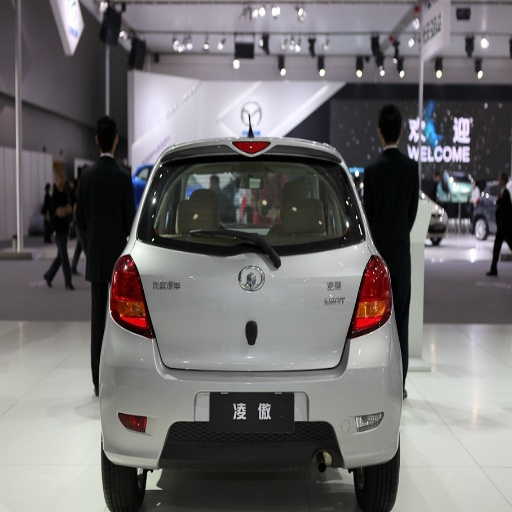back_bumper: (93, 320, 404, 476)
tailgate: (330, 255, 361, 324)
trunk: (136, 243, 363, 367)
